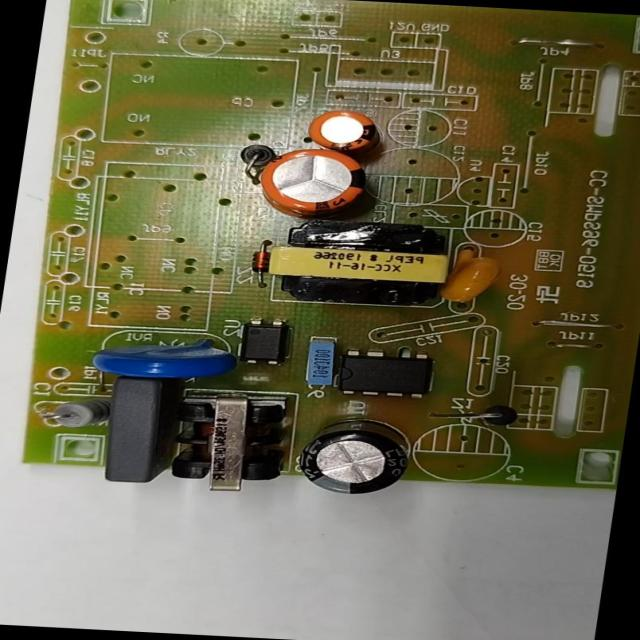Cap1: (257, 145, 372, 216)
Cap2: (305, 108, 376, 152)
Cap3: (293, 414, 412, 500)
MOSFET: (339, 349, 439, 398)
Mov: (89, 339, 234, 383)
Resistor: (44, 397, 110, 429)
Transformer: (264, 216, 452, 308), (169, 396, 283, 494)
